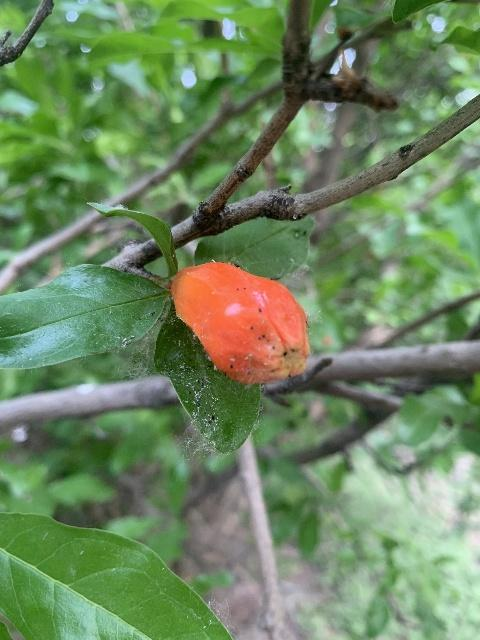bud: (169, 262, 310, 385)
